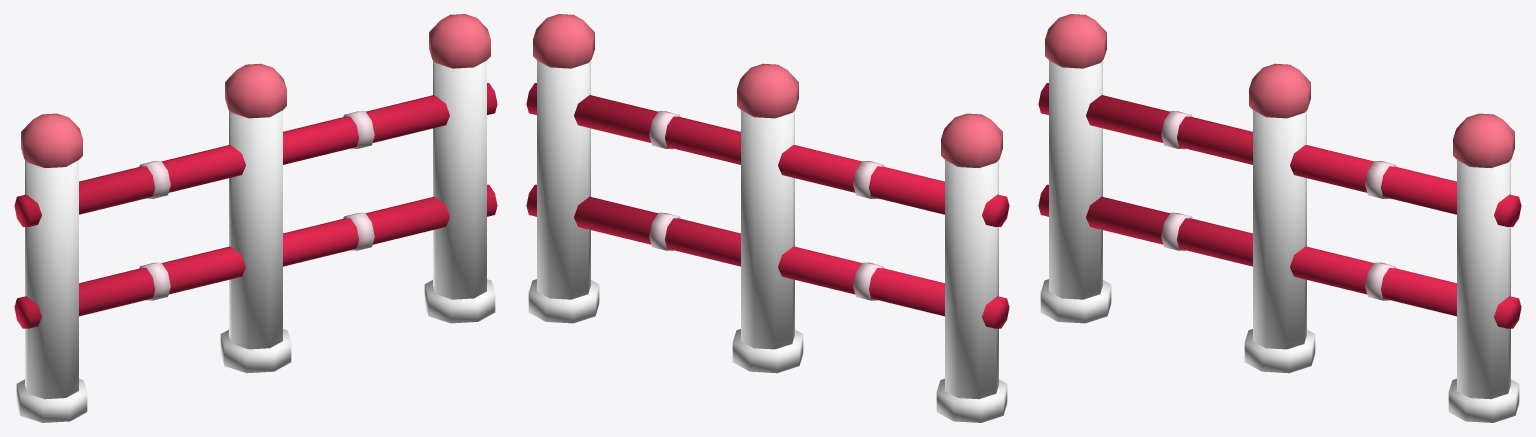
File: build-fence.glb
3 views of the same model, side by side, from view 1: azimuth 30°, elevation 25°; view 2: azimuth 150°, elevation 25°; view 3: azimuth 330°, elevation 25° (orthographic).
Visible parts, largest first — view 1: build-fence; view 2: build-fence; view 3: build-fence.
Part boxes in pixels (x1,y1,x2,y2): build-fence: (14,14,497,422); build-fence: (526,14,1009,422); build-fence: (1038,14,1521,422).
Bounding box in the file's own units: 0.97 × 0.574 × 0.13.
Materials: 1 (1 with a texture image).
